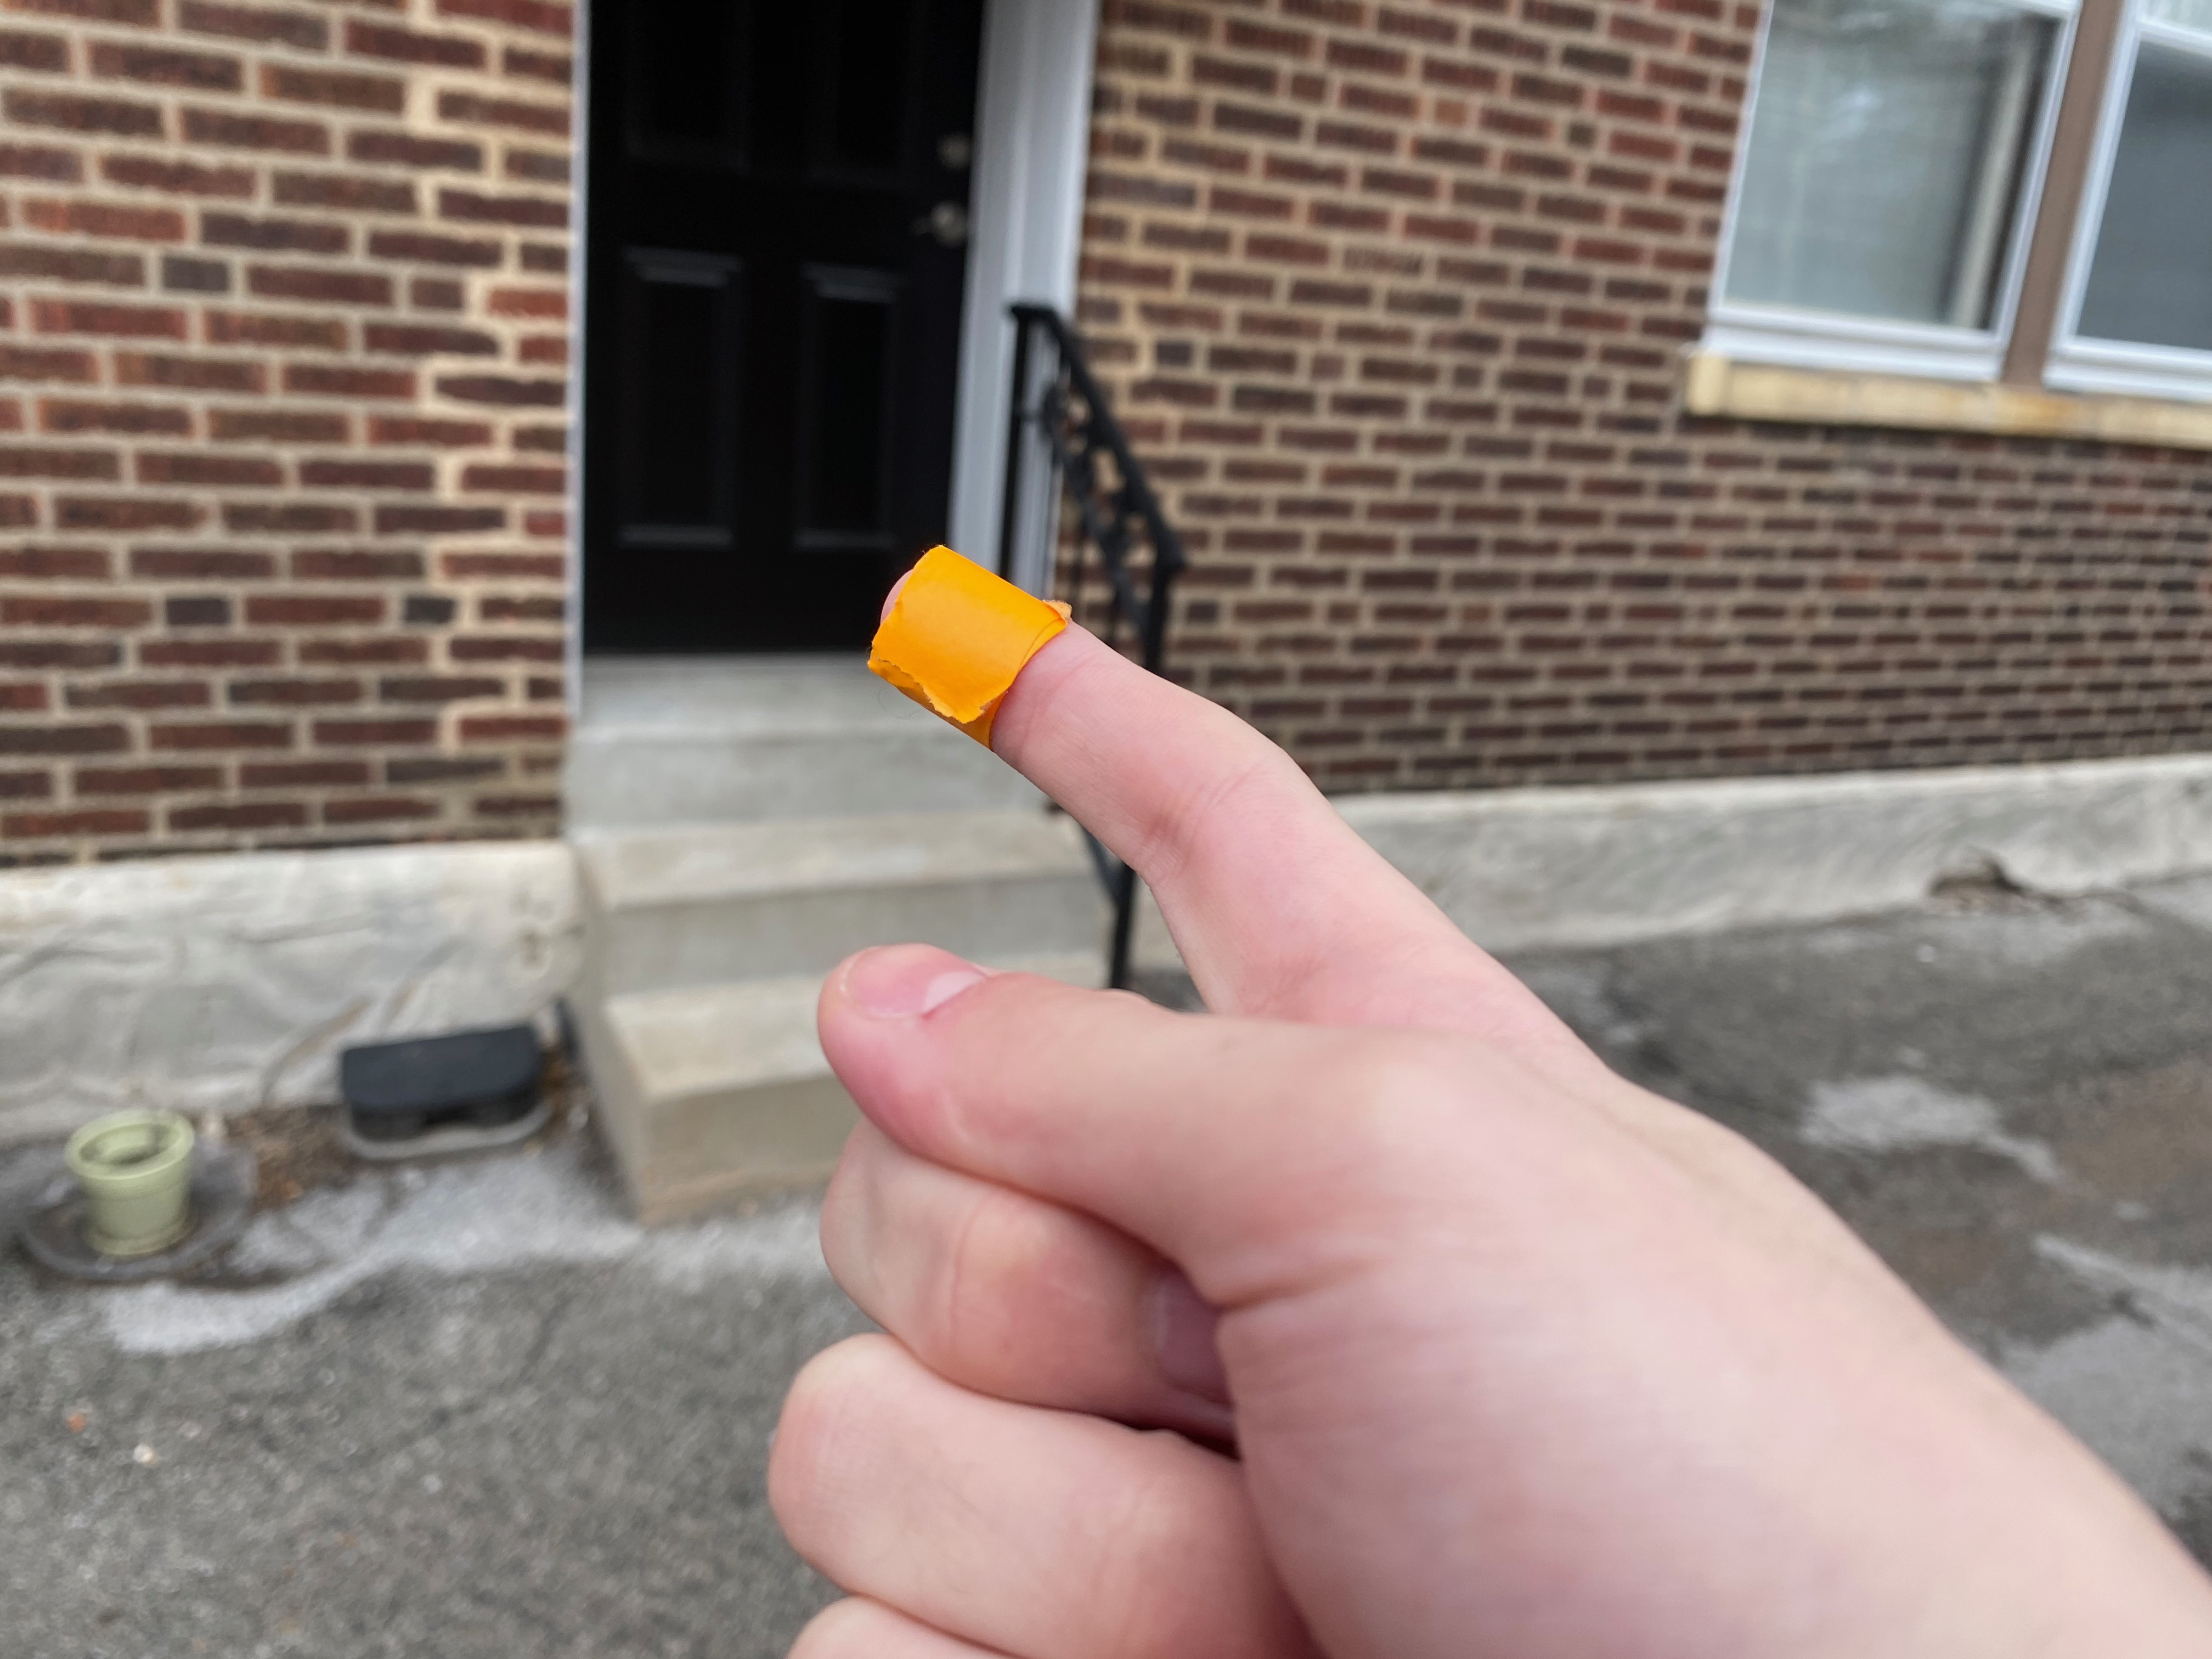fingertip: (852, 542, 1052, 744)
